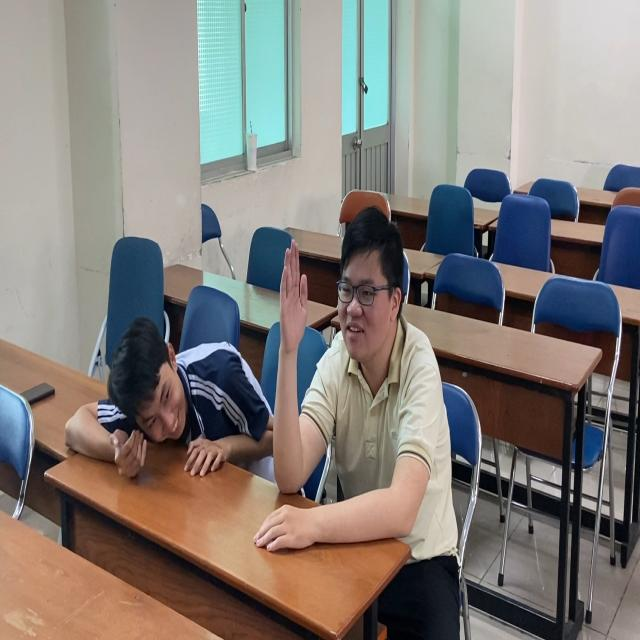raise_hand: (273, 213, 457, 566)
sleep: (60, 308, 269, 495)
